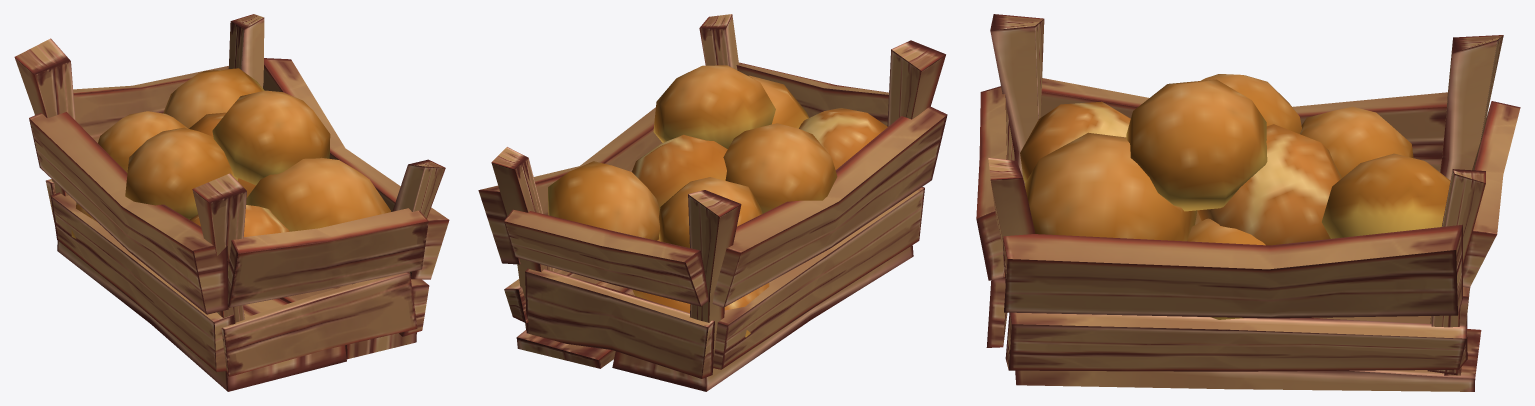
Rendered from SM_PROP_crate_05.glb.
The picture shows the model from 3 angles, left to right: view 1: azimuth 30°, elevation 25°; view 2: azimuth 150°, elevation 25°; view 3: azimuth 270°, elevation 25°; orthographic projection. The views are drawn at different scales.
Parts seen in each view (by area): view 1: SM_PROP_crate_05_EXPORT; view 2: SM_PROP_crate_05_EXPORT; view 3: SM_PROP_crate_05_EXPORT.
Boxes of the visible parts, box(x1,y1,x2,y2) form: SM_PROP_crate_05_EXPORT: box(14, 14, 449, 391); SM_PROP_crate_05_EXPORT: box(478, 14, 947, 391); SM_PROP_crate_05_EXPORT: box(976, 14, 1520, 391).
Size of the model in its own units: 0.645 by 0.4666 by 0.8913.
Materials: 2 (2 with a texture image).
